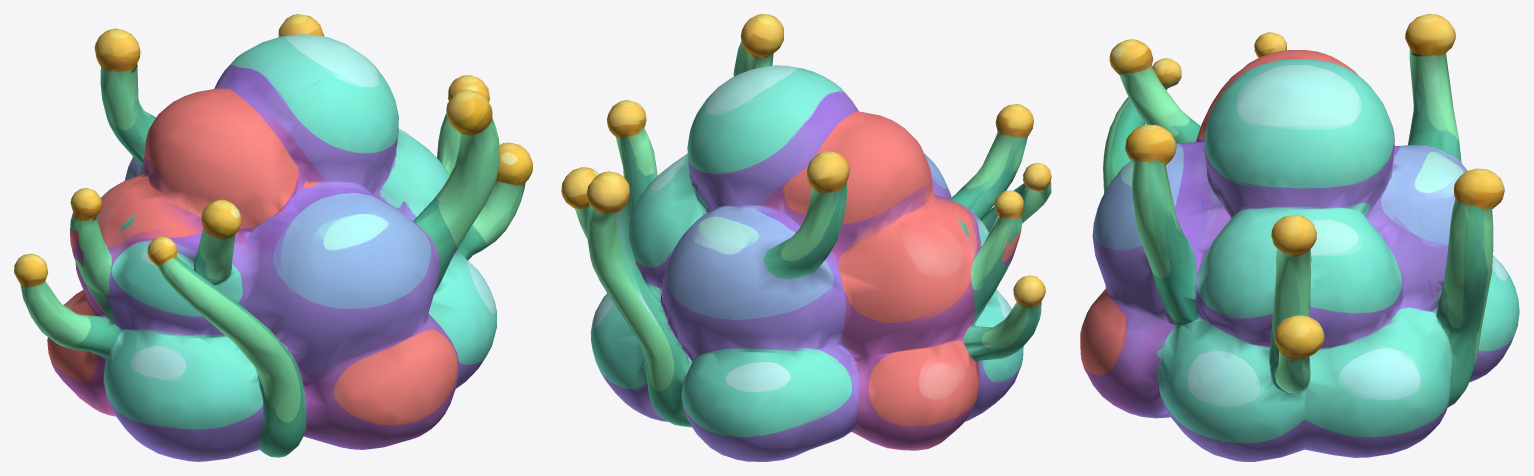
File: static.glb
3 views of the same model, side by side, from view 1: azimuth 30°, elevation 25°; view 2: azimuth 150°, elevation 25°; view 3: azimuth 270°, elevation 25° (orthographic). The views are drawn at different scales.
Parts seen in each view (by area): view 1: Mesh_0; view 2: Mesh_0; view 3: Mesh_0.
Boxes of the visible parts, x1,y1,x2,y2 form: Mesh_0: (14, 14, 532, 461); Mesh_0: (561, 14, 1051, 461); Mesh_0: (1080, 14, 1519, 461).
Bounding box in the file's own units: 1.9 × 1.26 × 1.43.
Materials: 1 (1 with a texture image).
